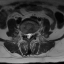CCS_normal: (28, 31, 30, 40)
LFS_normal: (32, 31, 34, 36)
LLS_normal: (30, 31, 32, 38)
RFS_normal: (23, 31, 26, 38)
RLS_normal: (26, 31, 28, 39)
